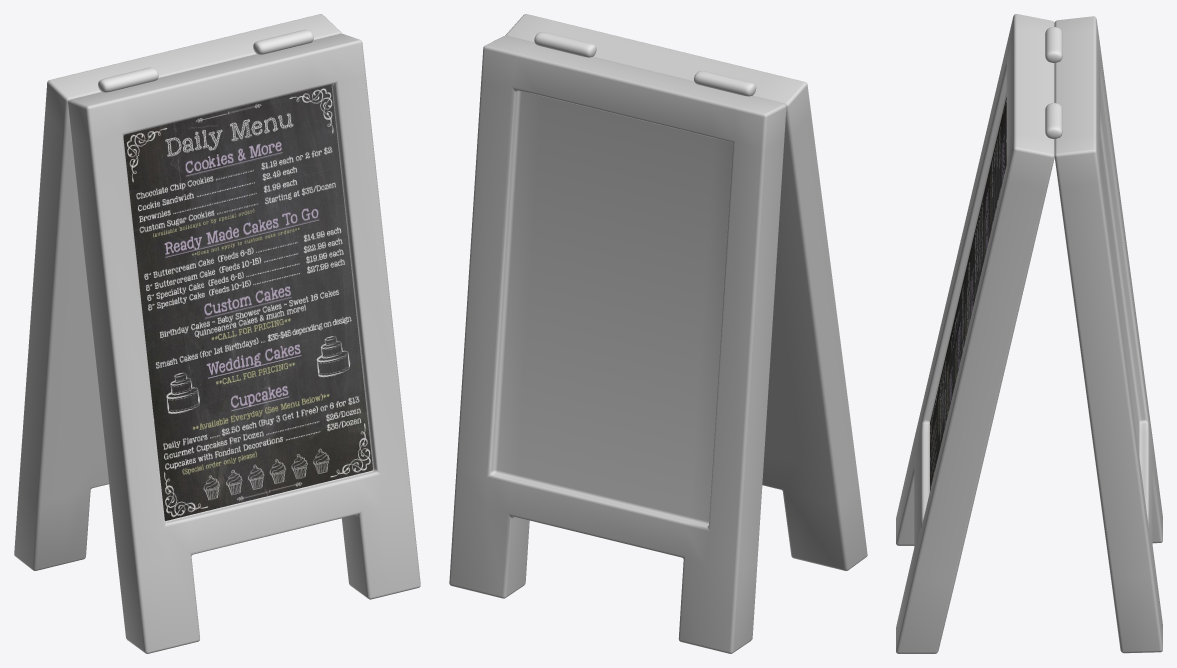
Rendered from small-menu.fbx.
3 views of the same model, side by side, from view 1: azimuth 30°, elevation 25°; view 2: azimuth 150°, elevation 25°; view 3: azimuth 270°, elevation 25° (orthographic). The views are drawn at different scales.
Parts seen in each view (by area): view 1: menu-text, menu-front, menu-back, metal-part2, metal-part; view 2: menu-back, menu-front, metal-part2, metal-part; view 3: menu-front, menu-back, menu-text, metal-part, metal-part2.
Part boxes in pixels (box(x1,y1,x2,y2)): menu-text: box(123, 84, 372, 520); menu-front: box(68, 33, 420, 653); menu-back: box(14, 14, 341, 570); metal-part2: box(253, 29, 313, 54); metal-part: box(98, 67, 158, 92); menu-back: box(449, 36, 786, 653); menu-front: box(505, 14, 867, 570); metal-part2: box(534, 32, 596, 57); metal-part: box(694, 71, 756, 96); menu-front: box(896, 14, 1054, 653); menu-back: box(1054, 16, 1162, 653); menu-text: box(930, 97, 1006, 490); metal-part: box(1045, 27, 1062, 63); metal-part2: box(1045, 103, 1062, 139).
Size of the model in its own units: 200 by 352 by 167.
